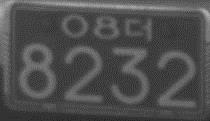0: (60, 12, 89, 39)
2: (156, 48, 197, 109), (63, 43, 103, 103)
3: (109, 46, 151, 104)
8: (18, 41, 58, 100), (92, 13, 121, 41)
더: (124, 15, 153, 42)
